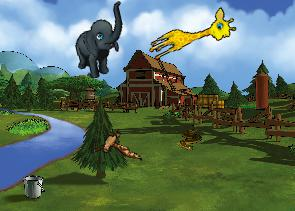eagle: (91, 125, 142, 166)
elephant: (66, 1, 136, 81)
giraffe: (145, 4, 239, 71)
